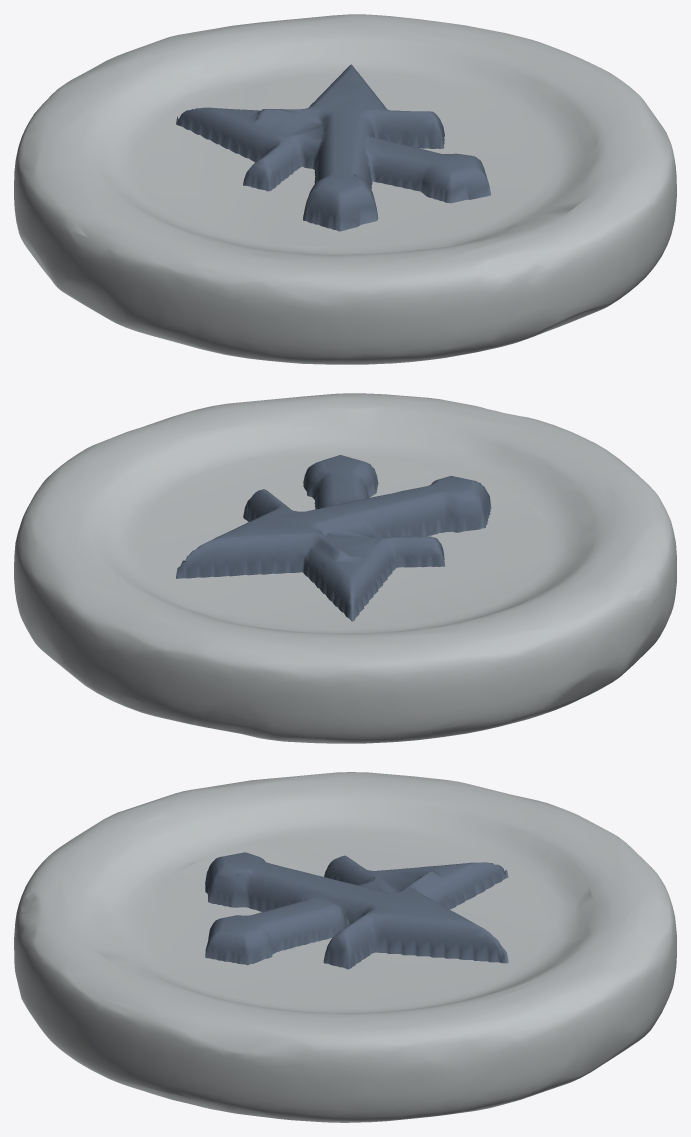
Rendered from token-rogue-blue-draco.glb.
3 views of the same model, one above another, from view 1: azimuth 30°, elevation 25°; view 2: azimuth 150°, elevation 25°; view 3: azimuth 270°, elevation 25° (orthographic).
Visible parts, largest first — view 1: token_rogue_blue; view 2: token_rogue_blue; view 3: token_rogue_blue.
Part boxes in pixels (<box>): token_rogue_blue: <box>14,14,676,364</box>; token_rogue_blue: <box>14,393,676,743</box>; token_rogue_blue: <box>14,772,676,1122</box>.
Size of the model in its own units: 0.414 by 0.072 by 0.414.
